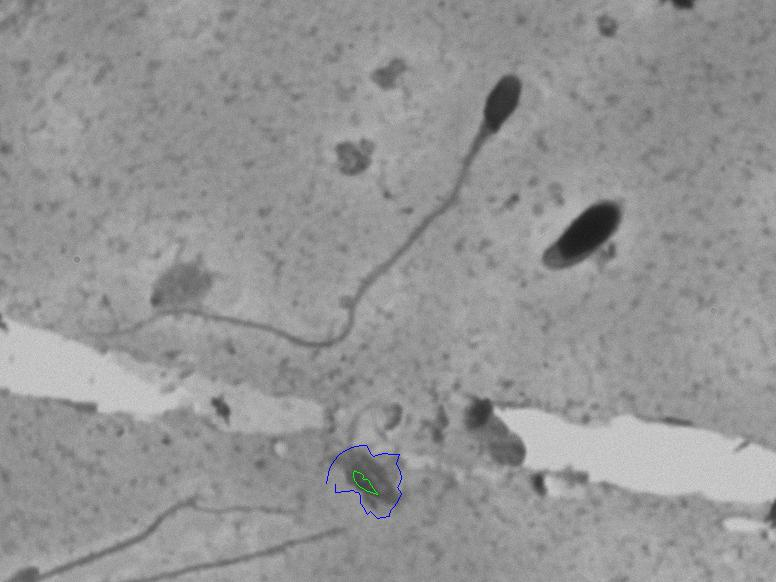Abnormal: (88, 51, 531, 355), (521, 190, 641, 307)
